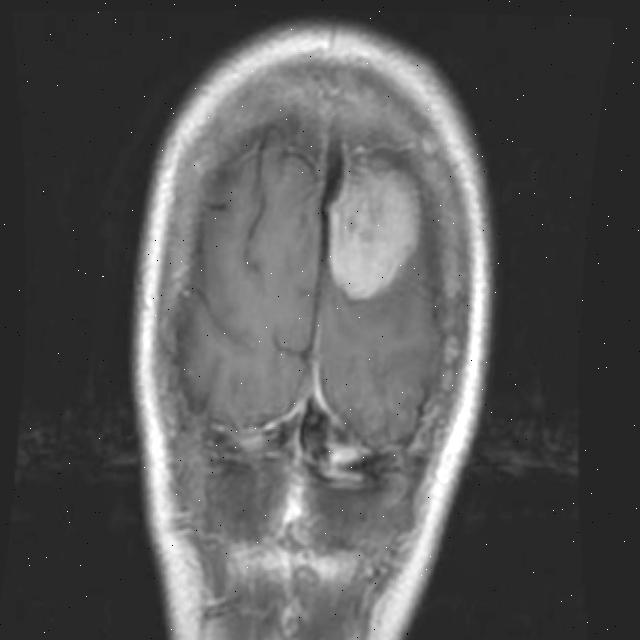Meningioma: (317, 139, 430, 305)
